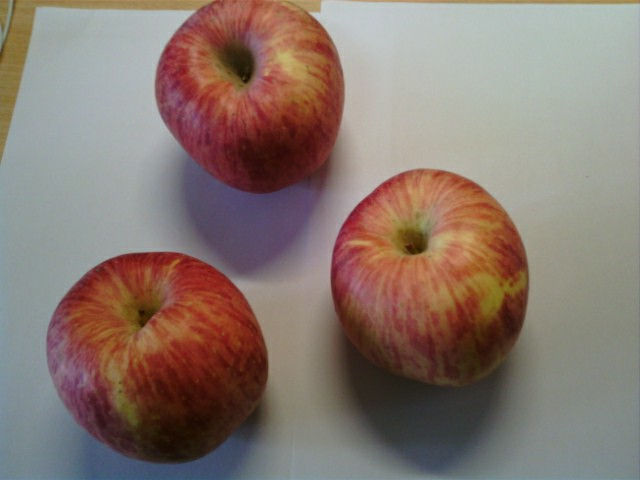normal_apple: (46, 252, 271, 465), (332, 168, 531, 388), (155, 3, 345, 195)
